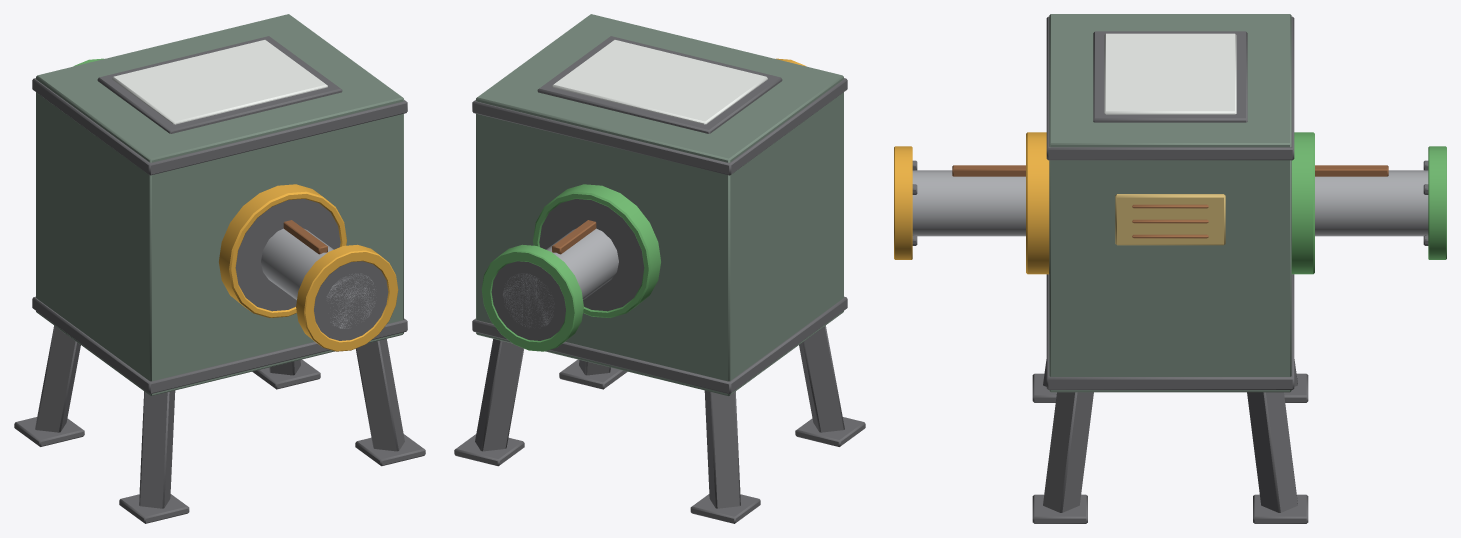
Rendered from feSpeedBox.fbx.
3 renders of one model, left to right at view 1: azimuth 30°, elevation 25°; view 2: azimuth 150°, elevation 25°; view 3: azimuth 270°, elevation 25°, orthographic. The views are drawn at different scales.
Visible parts, largest first — view 1: feSpeedBox_Base, FeSpinOut_SpeedBox; view 2: feSpeedBox_Base, FeSpinIn_SpeedBox; view 3: feSpeedBox_Base, FeSpinIn_SpeedBox, FeSpinOut_SpeedBox.
Boxes of the visible parts, <box> form: feSpeedBox_Base: <box>14,14,425,523</box>; FeSpinOut_SpeedBox: <box>261,220,398,351</box>; feSpeedBox_Base: <box>454,14,865,523</box>; FeSpinIn_SpeedBox: <box>481,220,618,351</box>; feSpeedBox_Base: <box>1026,14,1314,523</box>; FeSpinIn_SpeedBox: <box>1315,146,1446,259</box>; FeSpinOut_SpeedBox: <box>894,146,1025,259</box>.
Size of the model in its own units: 0.62 by 0.7657 by 1.
